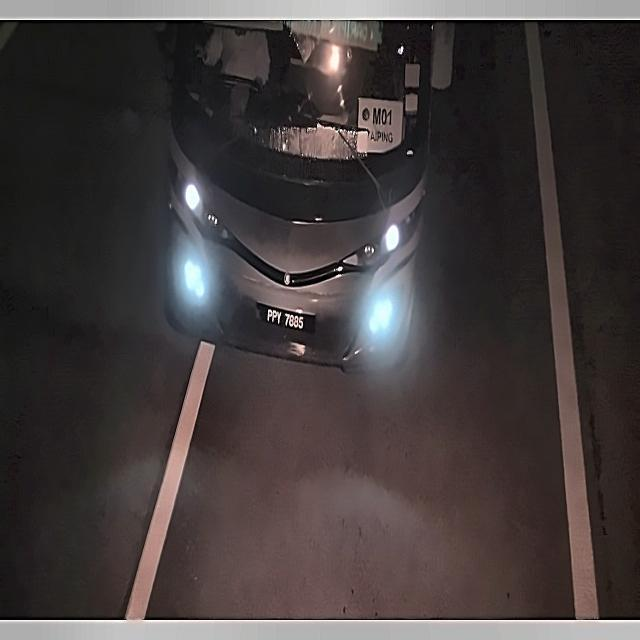car: (254, 298, 316, 340)
